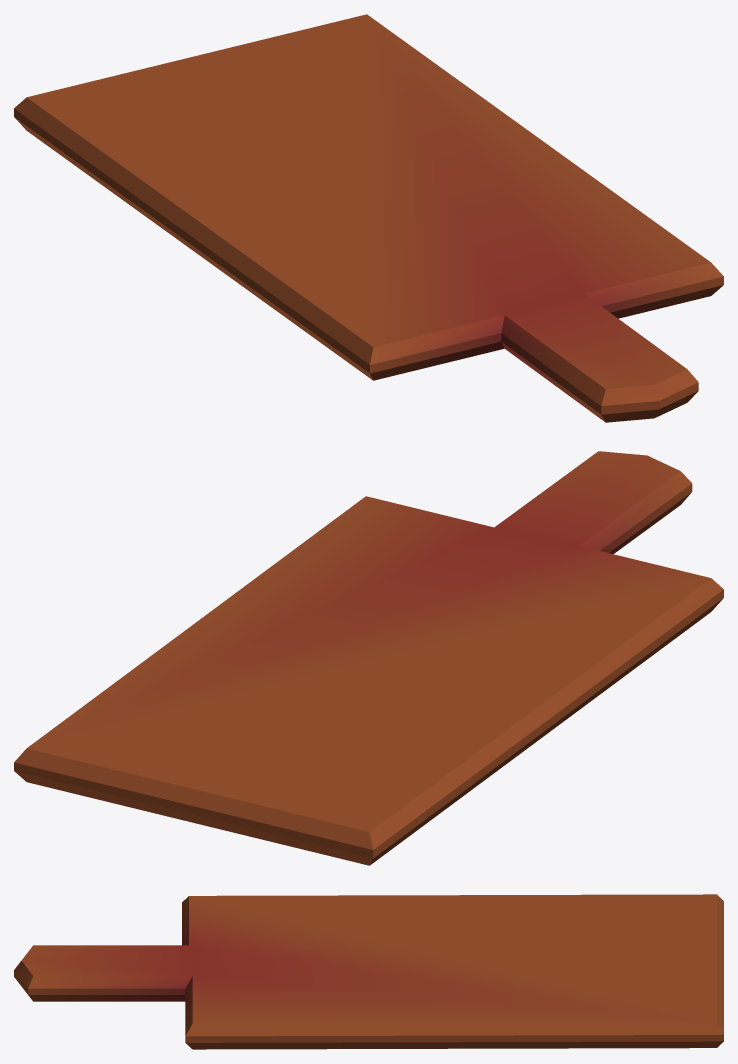
The picture shows the model from 3 angles, top to bottom: view 1: azimuth 30°, elevation 25°; view 2: azimuth 150°, elevation 25°; view 3: azimuth 270°, elevation 25°; orthographic projection. The views are drawn at different scales.
Visible parts, largest first — view 1: board; view 2: board; view 3: board.
Boxes of the visible parts, x1=… form: board: x1=14, y1=14, x2=723, y2=422; board: x1=14, y1=451, x2=723, y2=865; board: x1=14, y1=894, x2=723, y2=1049.
Bounding box in the file's own units: 0.1808 × 0.016 × 0.4008.
